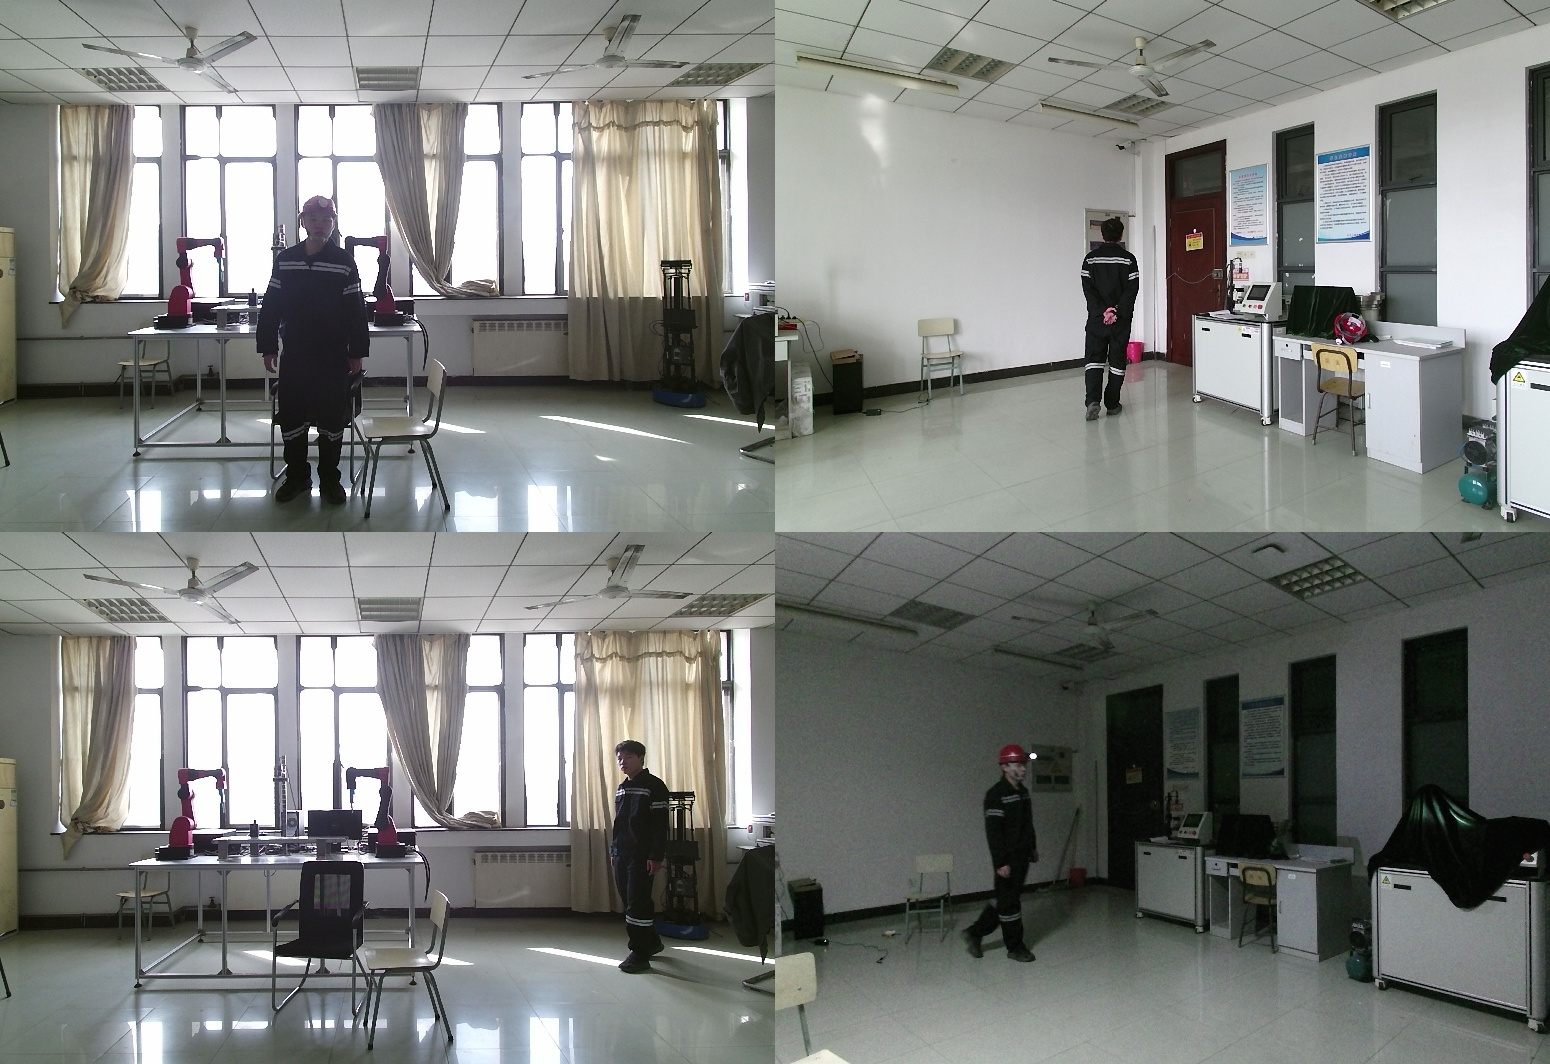person: (258, 196, 373, 511), (957, 747, 1039, 975), (616, 742, 683, 977), (1074, 217, 1143, 426)
